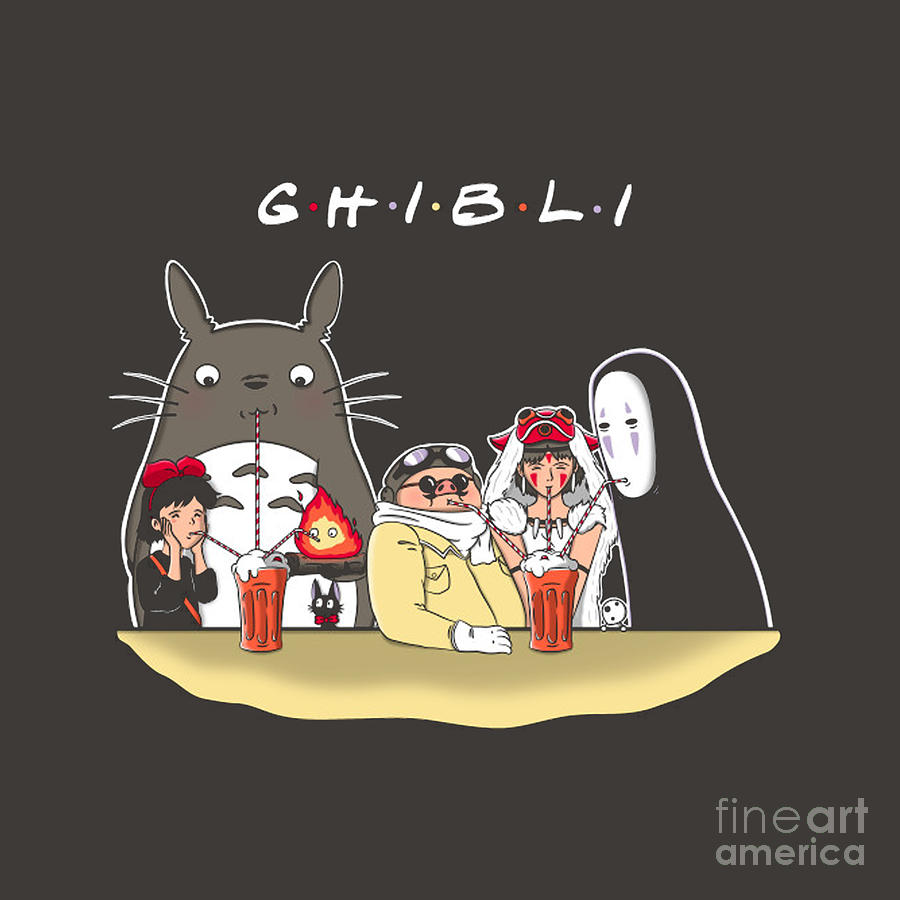Totoro: (105, 247, 402, 655)
